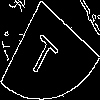T: (25, 25, 63, 81)
